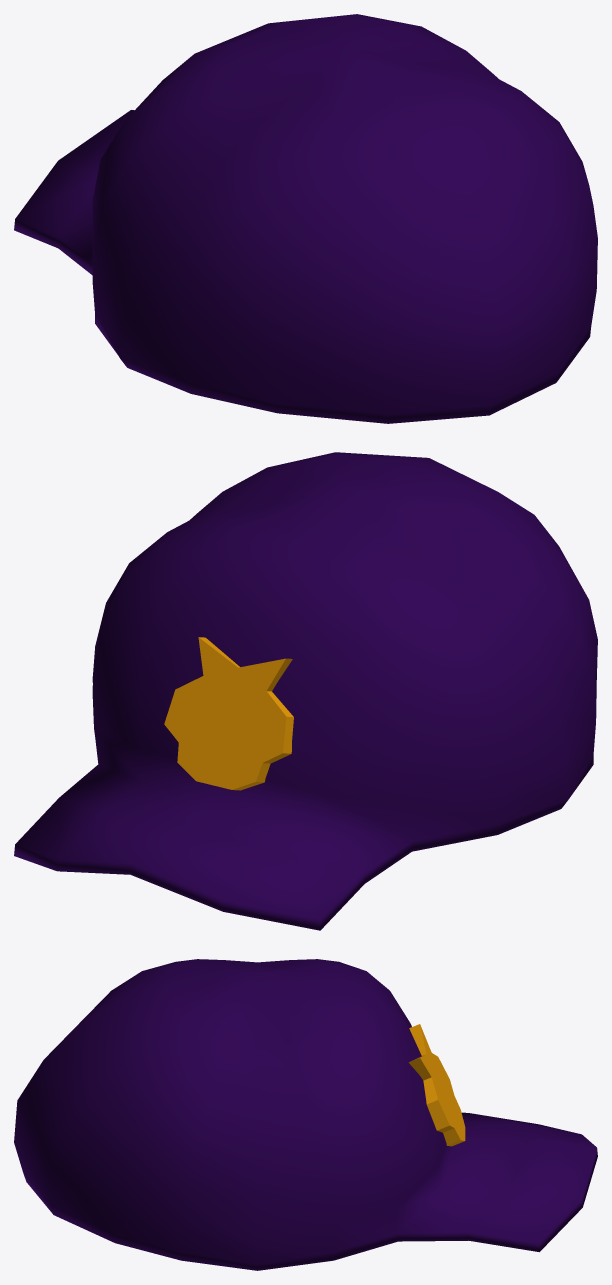
File: security_capv2.fbx
The picture shows the model from 3 angles, top to bottom: view 1: azimuth 30°, elevation 25°; view 2: azimuth 150°, elevation 25°; view 3: azimuth 270°, elevation 25°; orthographic projection. The views are drawn at different scales.
Visible parts, largest first — view 1: Sphere; view 2: Sphere, Badge; view 3: Sphere, Badge.
Boxes of the visible parts, box(x1,y1,x2,y2) form: Sphere: box(14, 14, 597, 423); Sphere: box(14, 452, 597, 930); Badge: box(164, 637, 293, 790); Sphere: box(14, 959, 597, 1270); Badge: box(408, 1024, 465, 1146).
Size of the model in its own units: 207 by 122 by 293.
